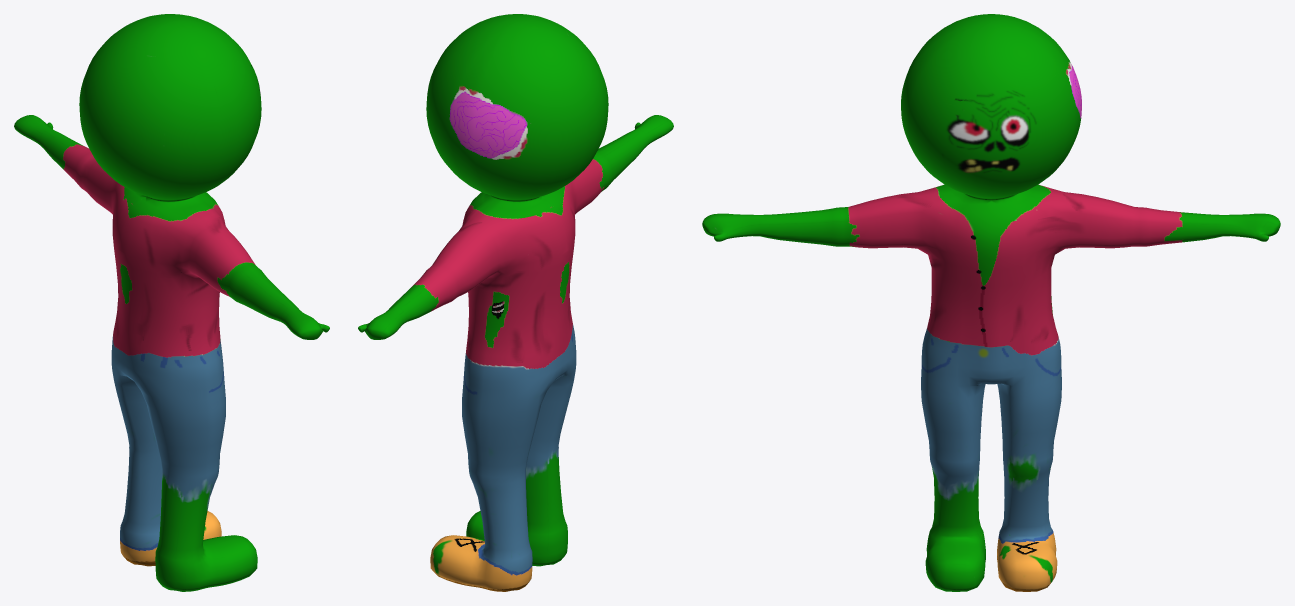
File: Zombie.fbx
The picture shows the model from 3 angles, left to right: view 1: azimuth 30°, elevation 25°; view 2: azimuth 150°, elevation 25°; view 3: azimuth 270°, elevation 25°; orthographic projection.
Visible parts, largest first — view 1: Character; view 2: Character; view 3: Character.
Part boxes in pixels (bbox=[...]): Character: bbox=[14, 14, 329, 591]; Character: bbox=[358, 14, 673, 591]; Character: bbox=[702, 14, 1280, 591].
Size of the model in its own units: 3306 by 10929 by 10552.
